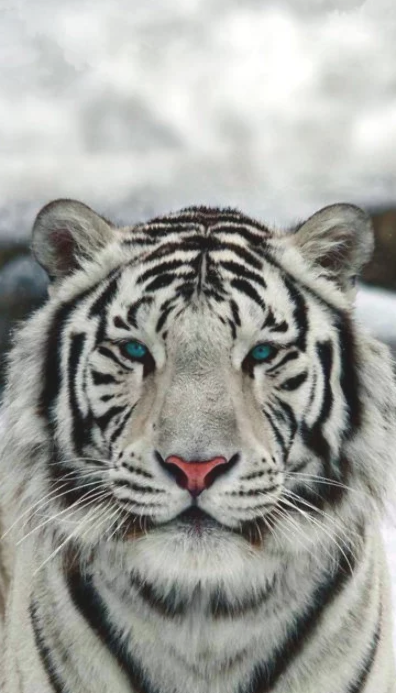Tigrew: (22, 177, 396, 633)
